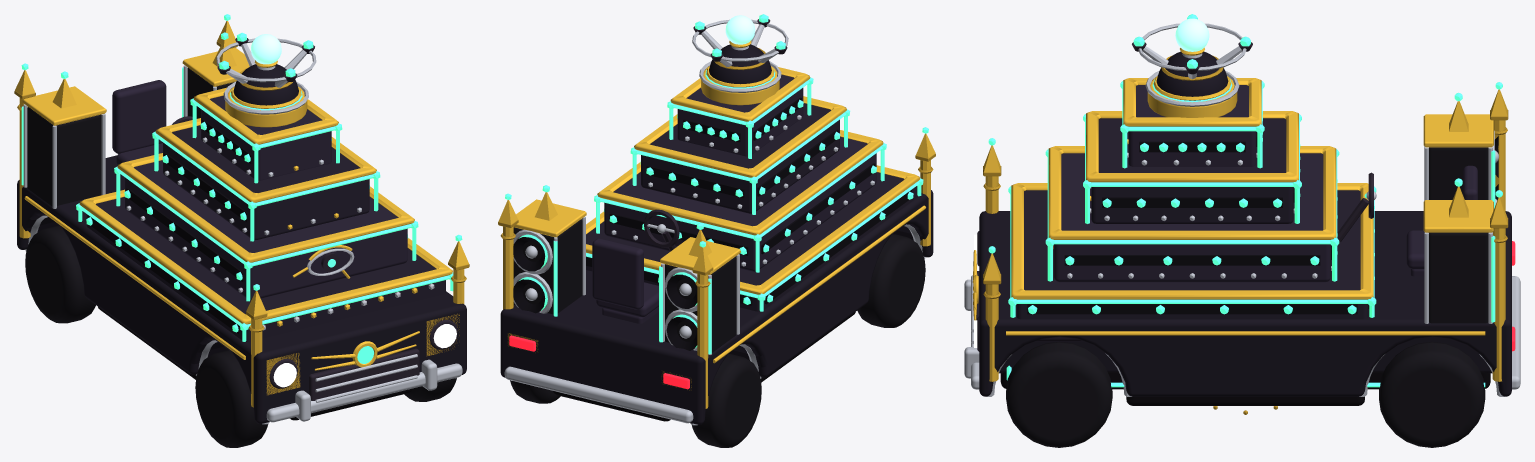
File: pyramid_scheme.glb
3 views of the same model, side by side, from view 1: azimuth 30°, elevation 25°; view 2: azimuth 150°, elevation 25°; view 3: azimuth 270°, elevation 25° (orthographic). The views are drawn at different scales.
Parts seen in each view (by area): view 1: shell, tier_1, tier_2, tier_0, tower_0, wheel_FR_tyre, wheel_RR_tyre, coping_0, tier_3, coping_1, seat_back, coping_2 (+28 smaller); view 2: shell, tier_1, tier_2, wheel_RR_tyre, wheel_FR_tyre, tier_0, coping_1, tier_3, seat_back, tower_1, tower_0, coping_2 (+32 smaller); view 3: shell, tier_1, tier_0, tier_2, wheel_FL_tyre, wheel_RL_tyre, coping_0, coping_1, tower_1, tier_3, coping_2, chan_0_1 (+23 smaller).
Part boxes in pixels (x1=…): shell: x1=17, y1=155, x2=466, y2=423; tier_1: x1=125, y1=160, x2=407, y2=300; tier_2: x1=163, y1=125, x2=369, y2=240; tier_0: x1=86, y1=197, x2=445, y2=351; tower_0: x1=27, y1=107, x2=101, y2=206; wheel_FR_tyre: x1=195, y1=350, x2=268, y2=447; wheel_RR_tyre: x1=25, y1=225, x2=95, y2=323; coping_0: x1=79, y1=189, x2=452, y2=324; tier_3: x1=201, y1=95, x2=331, y2=180; coping_1: x1=117, y1=153, x2=414, y2=262; seat_back: x1=112, y1=80, x2=166, y2=153; coping_2: x1=155, y1=118, x2=376, y2=202; shell: x1=500, y1=186, x2=933, y2=424; tier_1: x1=604, y1=136, x2=876, y2=271; tier_2: x1=641, y1=103, x2=839, y2=213; wheel_RR_tyre: x1=692, y1=354, x2=761, y2=447; wheel_FR_tyre: x1=857, y1=234, x2=925, y2=327; tier_0: x1=586, y1=172, x2=913, y2=311; coping_1: x1=597, y1=130, x2=883, y2=235; tier_3: x1=677, y1=74, x2=803, y2=156; seat_back: x1=592, y1=238, x2=643, y2=309; tower_1: x1=513, y1=219, x2=582, y2=314; tower_0: x1=665, y1=256, x2=736, y2=352; coping_2: x1=634, y1=96, x2=846, y2=177; shell: x1=979, y1=211, x2=1511, y2=396; tier_1: x1=1054, y1=153, x2=1330, y2=282; tier_0: x1=1016, y1=190, x2=1368, y2=341; tier_2: x1=1091, y1=118, x2=1293, y2=223; wheel_FL_tyre: x1=1006, y1=341, x2=1112, y2=447; wheel_RL_tyre: x1=1379, y1=342, x2=1485, y2=447; coping_0: x1=1011, y1=183, x2=1373, y2=299; coping_1: x1=1048, y1=146, x2=1336, y2=239; tower_1: x1=1429, y1=232, x2=1488, y2=323; tier_3: x1=1128, y1=85, x2=1256, y2=166; coping_2: x1=1086, y1=111, x2=1298, y2=182; chan_0_1: x1=1027, y1=304, x2=1357, y2=314.
Size of the model in its own units: 2.66 by 3.9 by 5.22.
